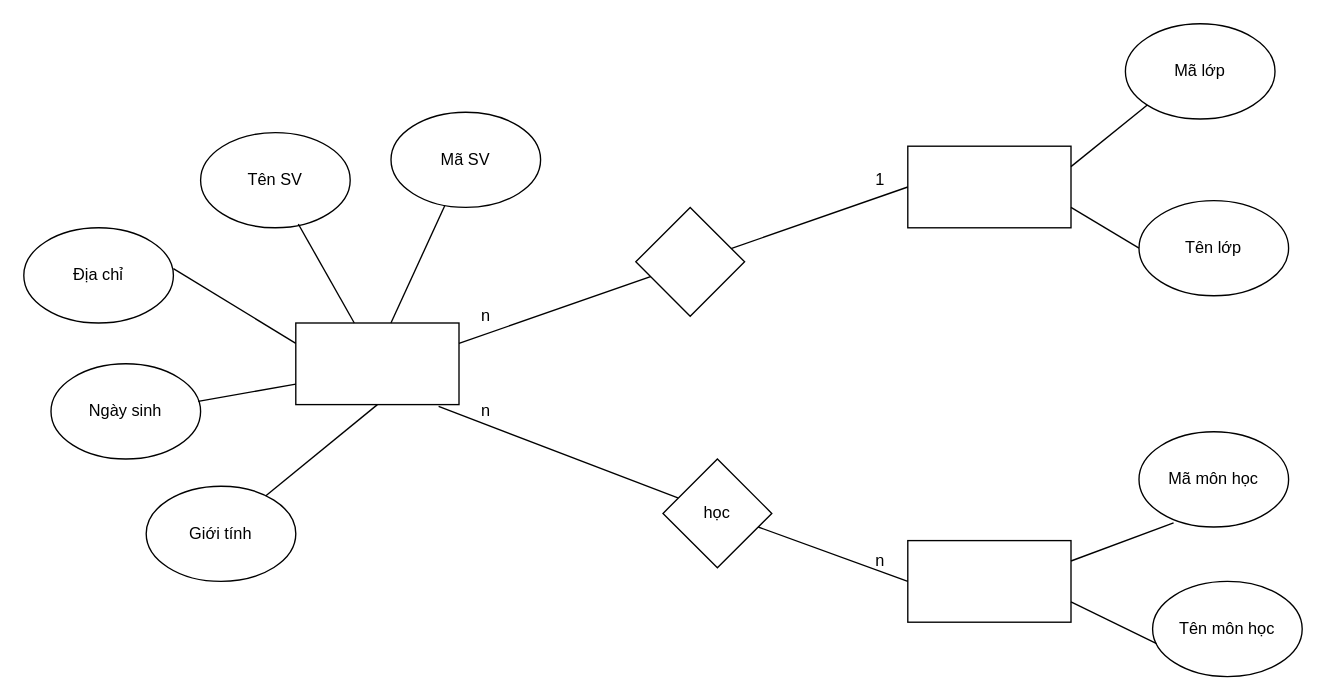
The diagram is 1326 pixels wide and 700 high, and some of its shapes have lost their labels. Here are the shapes that lost their labels. From the top down, the centre of each, then its label:
At point 988,186: "Lớp".
At point 689,261: "thuộc".
At point 376,363: "Sinh viên".
At point 988,580: "Môn học".
